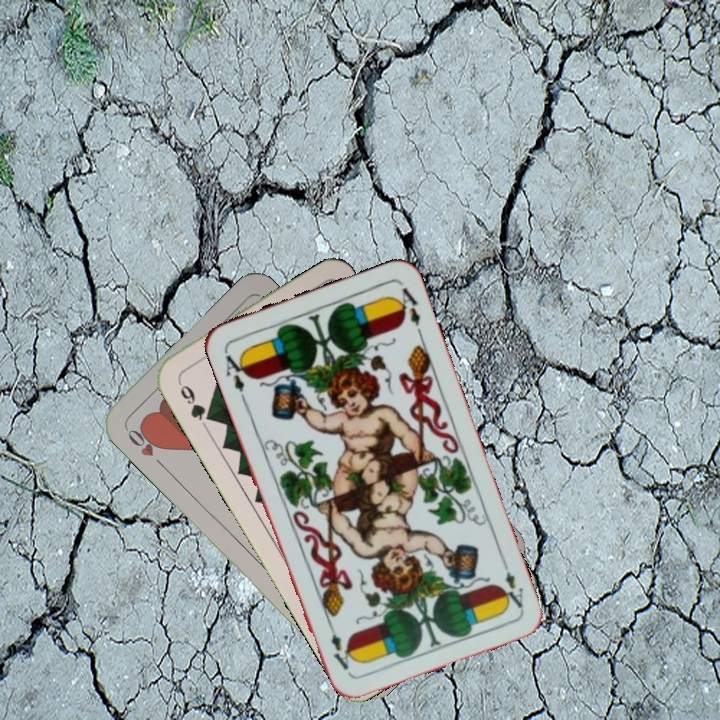EA: (496, 555, 526, 611), (220, 347, 252, 395)
G9: (173, 375, 216, 424)
HO: (122, 422, 168, 471)
